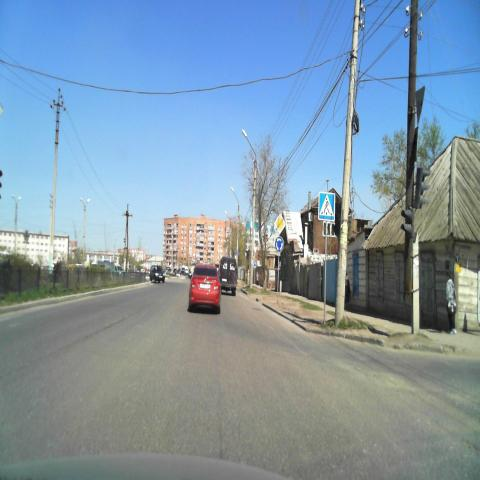4_3: (275, 236, 284, 252)
